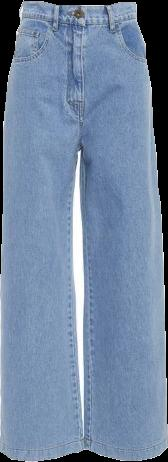Hemline: (79, 446, 167, 461), (0, 445, 82, 461)
Pantleg: (80, 2, 167, 460), (0, 1, 82, 460)
Waistline: (19, 15, 137, 28), (21, 0, 137, 10)
